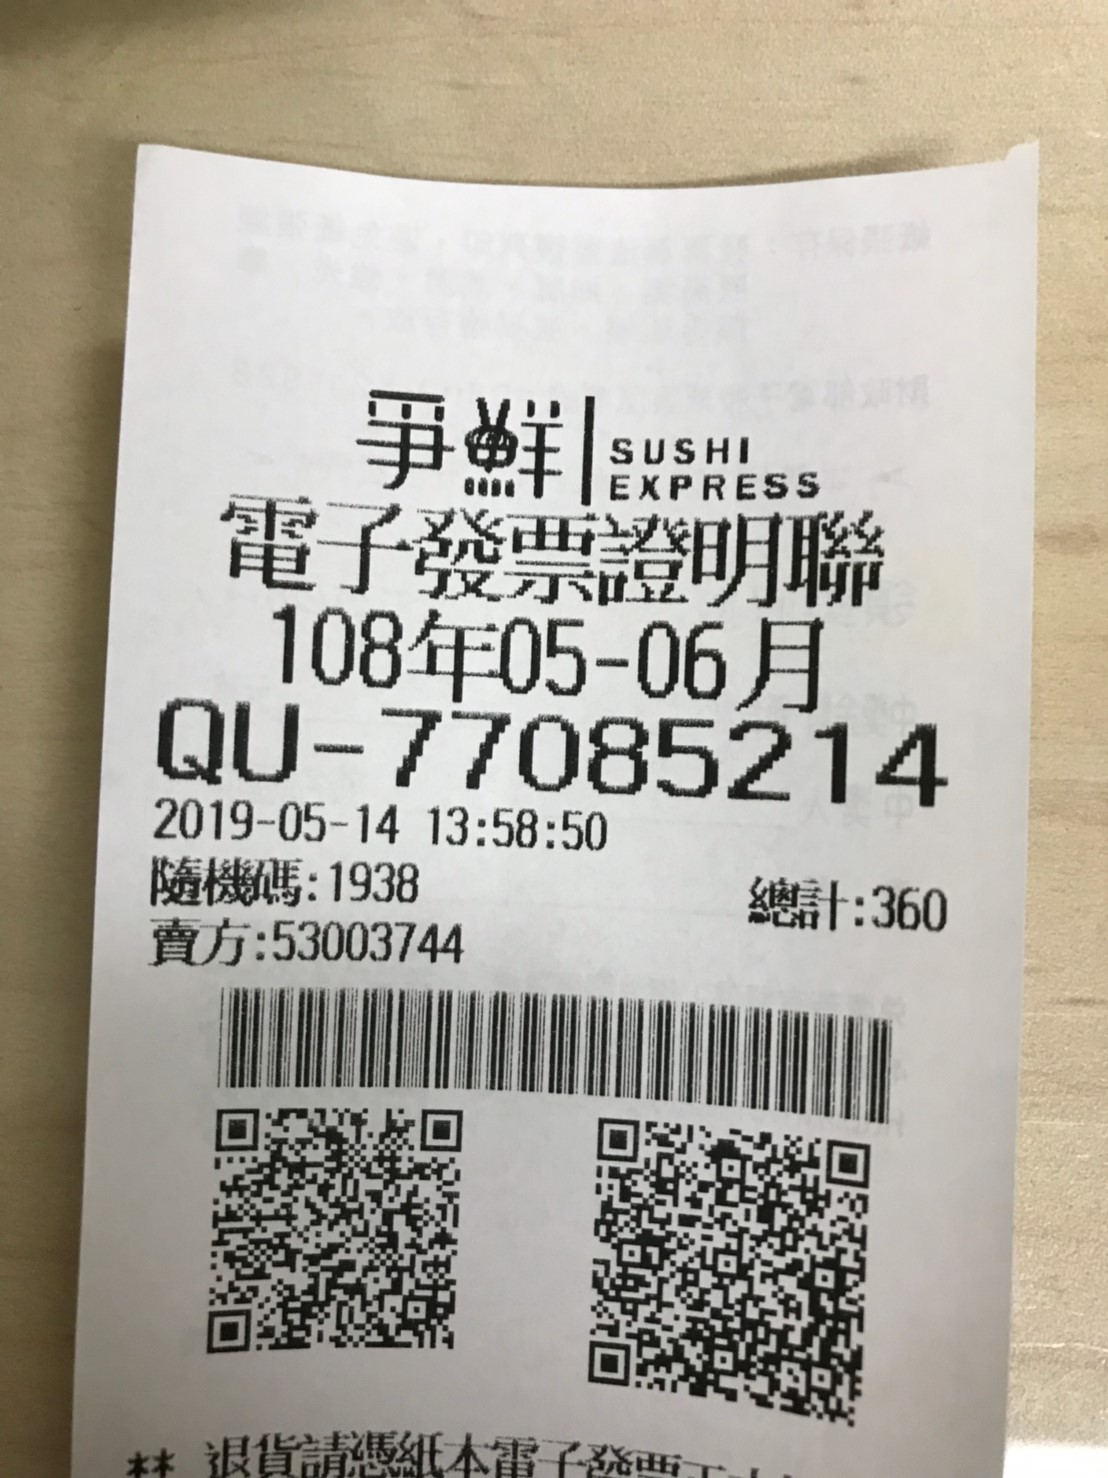Date_New: (271, 602, 830, 718)
Number_New: (376, 701, 952, 806)
